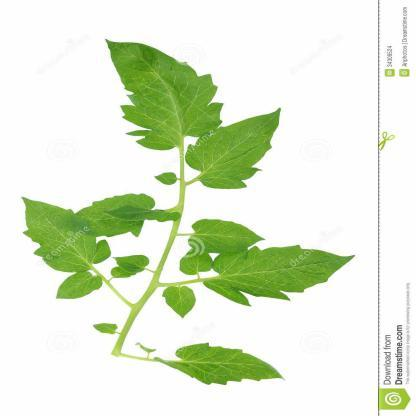Tomato leaf bacterial spot: (83, 31, 220, 154), (176, 104, 296, 205), (202, 246, 364, 308), (162, 332, 293, 396), (17, 188, 110, 278), (76, 180, 164, 242), (178, 214, 278, 262)
